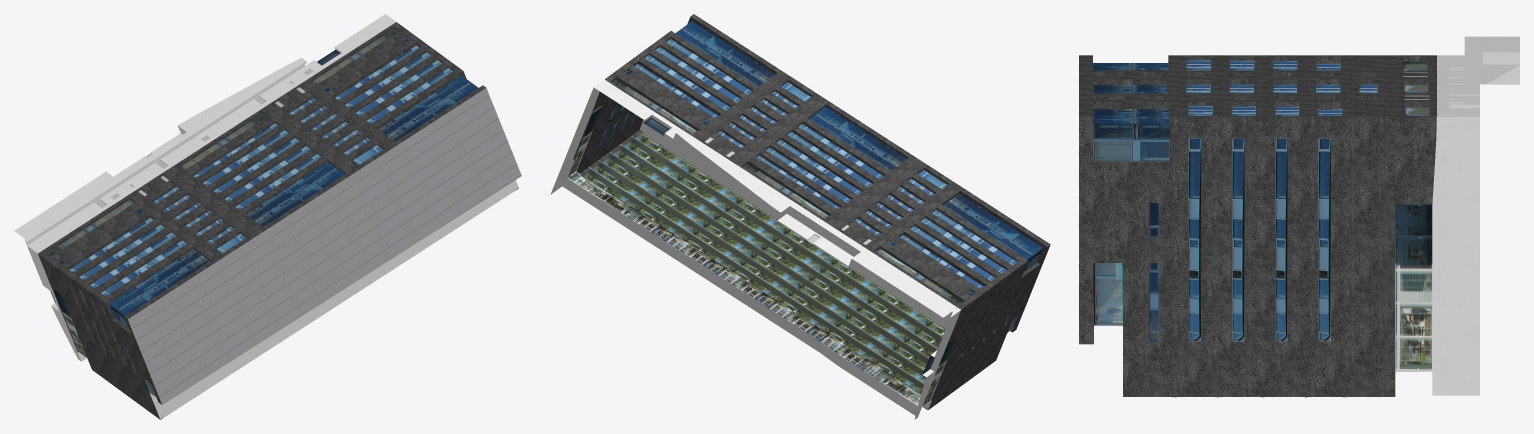
Rendered from Kpst8_1_1.obj.
3 renders of one model, left to right at view 1: azimuth 30°, elevation 25°; view 2: azimuth 150°, elevation 25°; view 3: azimuth 270°, elevation 25°, orthographic. The views are drawn at different scales.
Parts seen in each view (by area): view 1: polySurface6; view 2: polySurface6; view 3: polySurface6.
Boxes of the visible parts, box(x1,y1,x2,y2) form: polySurface6: box(14, 14, 521, 419); polySurface6: box(550, 14, 1050, 419); polySurface6: box(1079, 36, 1519, 397).
Size of the model in its own units: 64.54 by 40.09 by 30.55.
